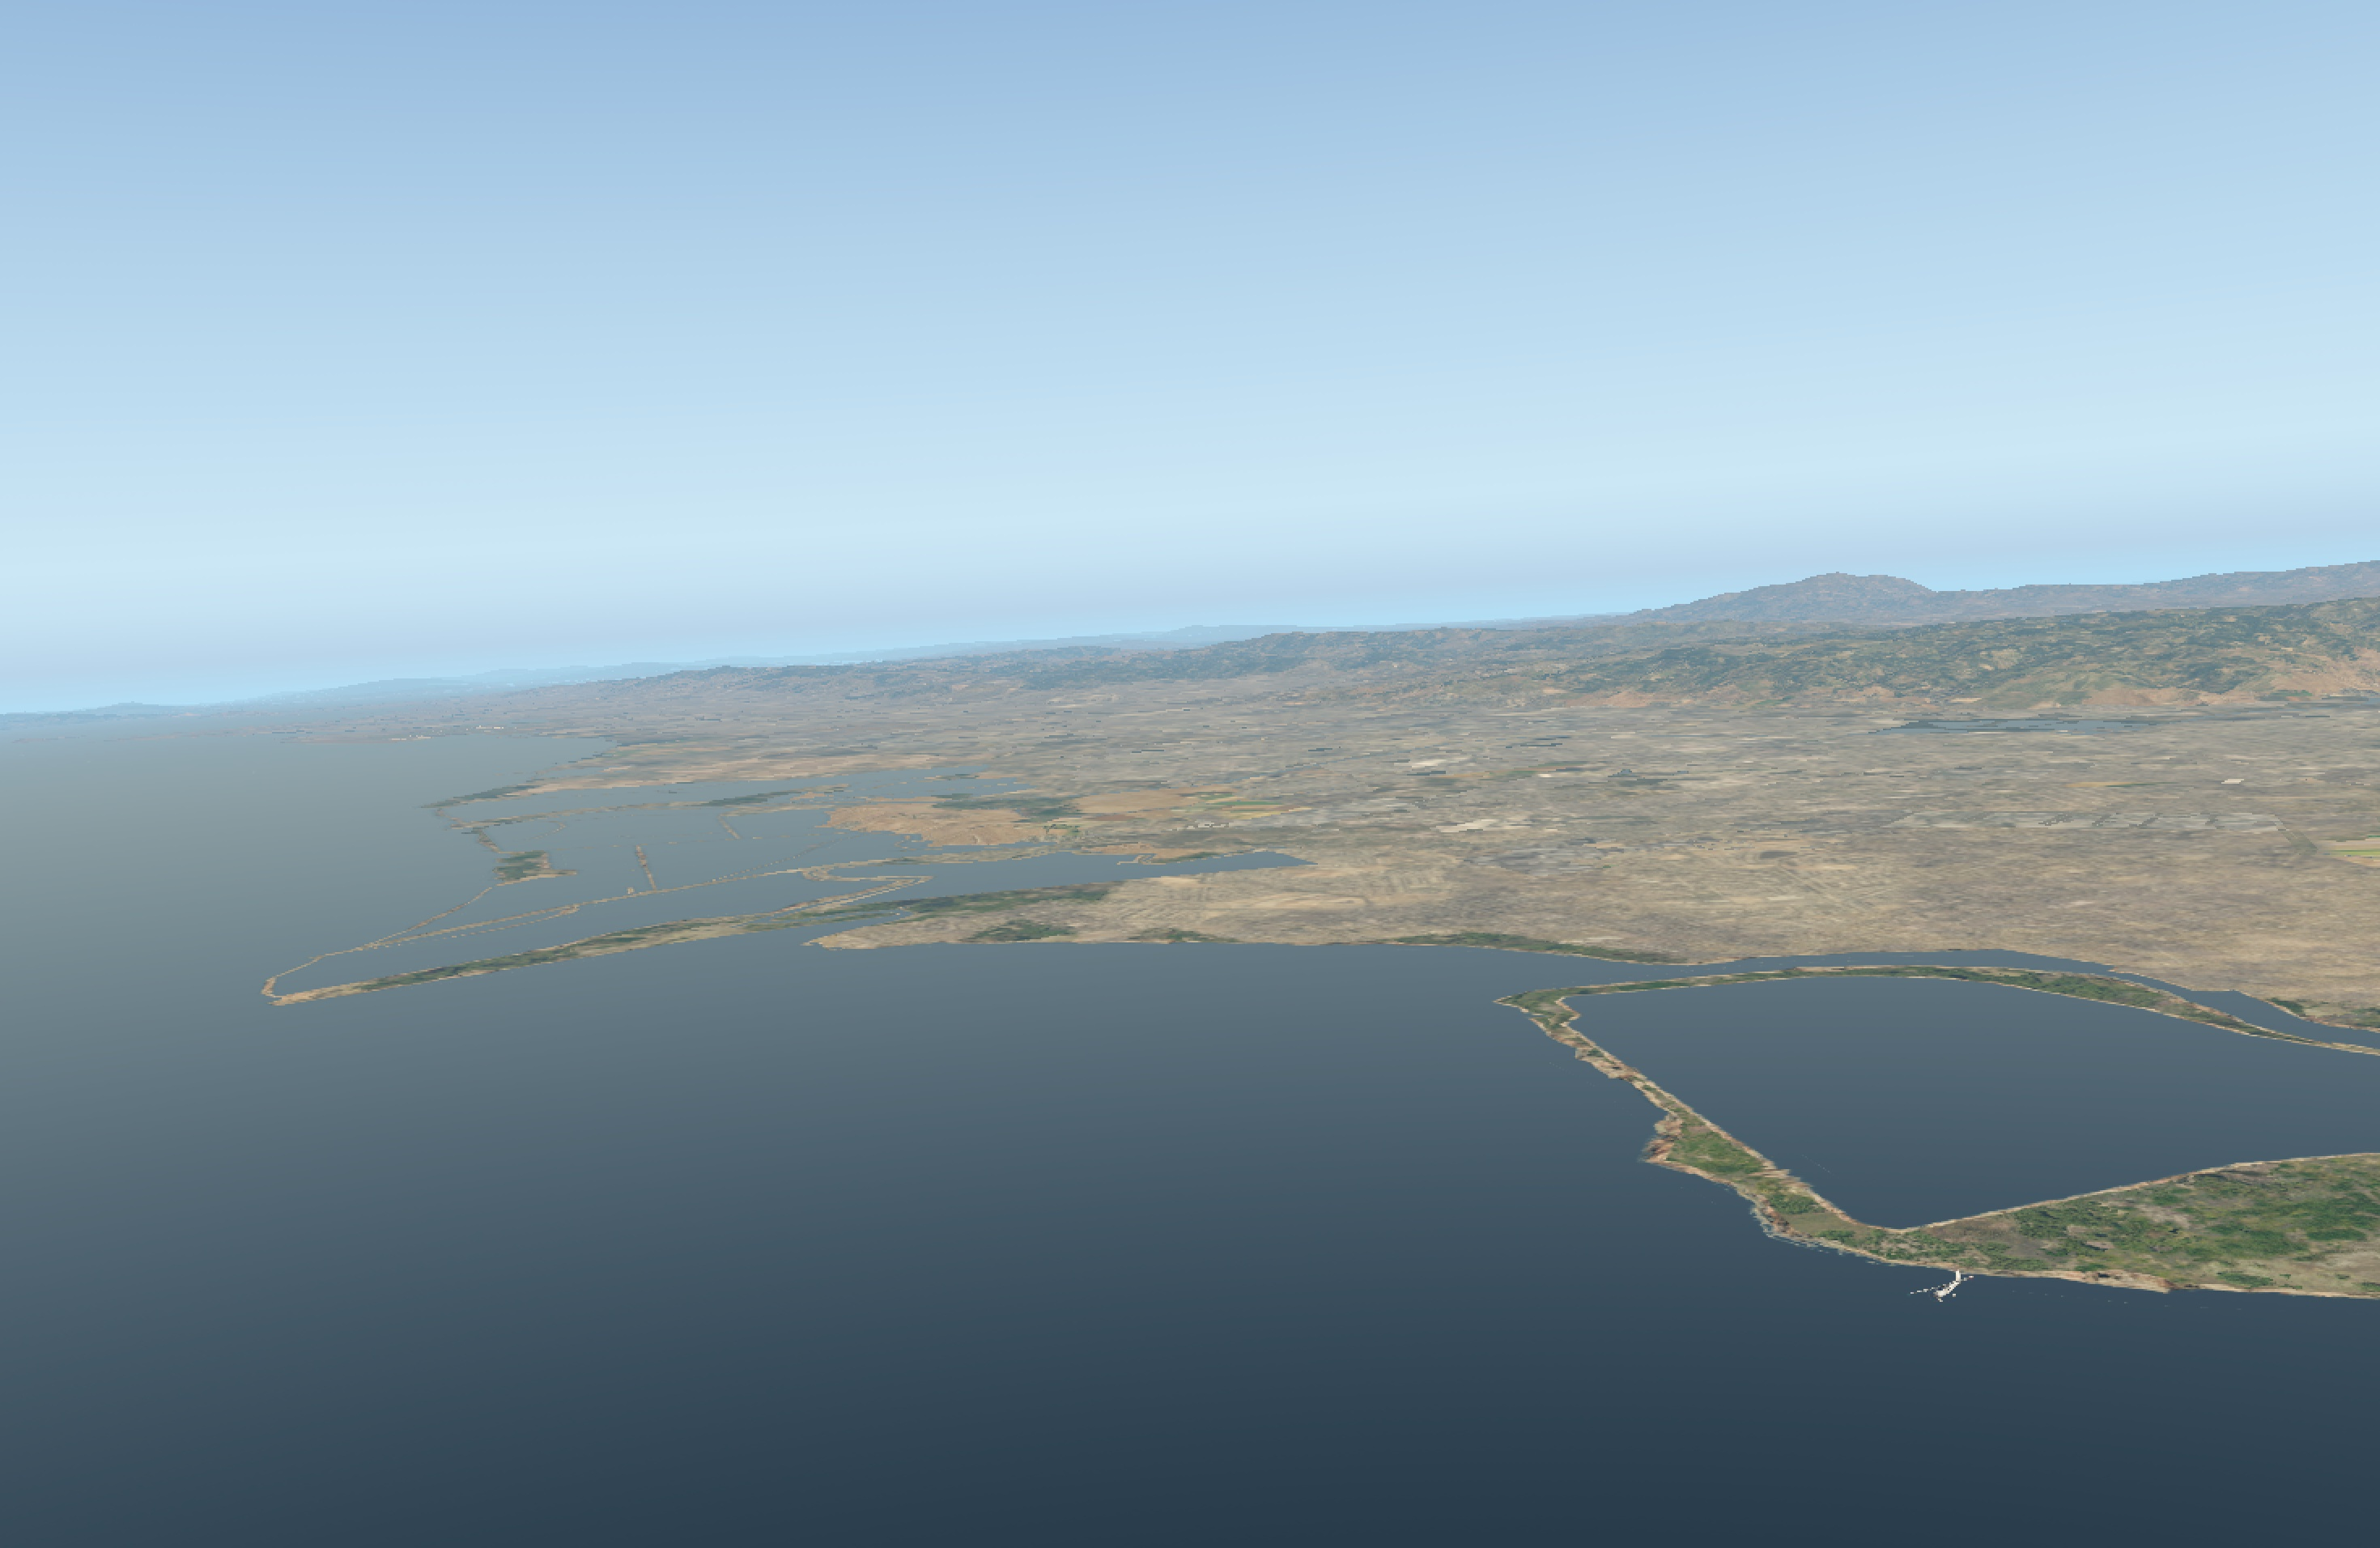aircraft: (1917, 1281, 1967, 1300)
